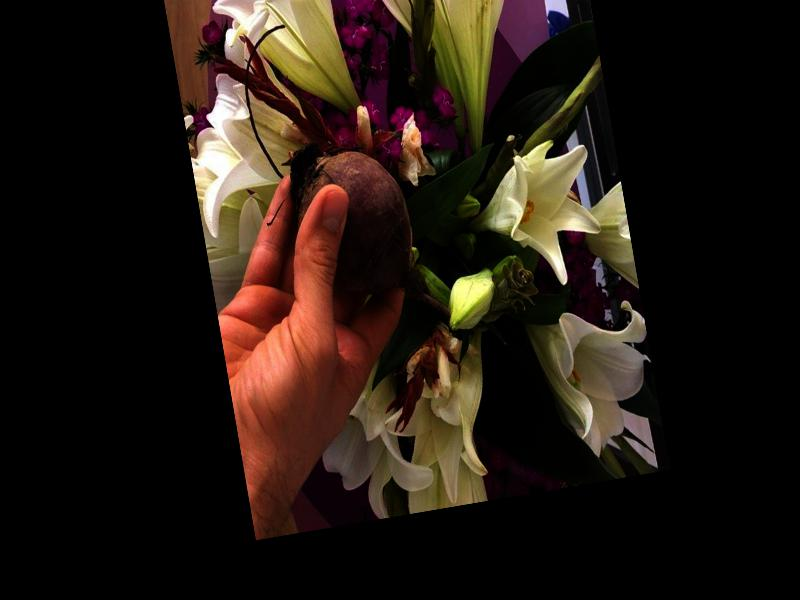Beet: (283, 125, 453, 344)
